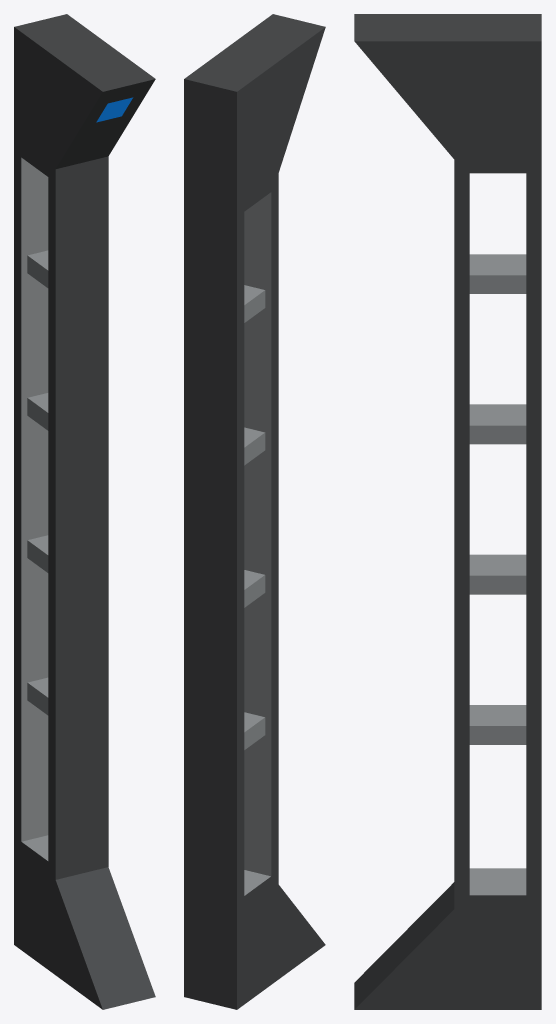
The model's file is Column_004.glb.
The picture shows the model from 3 angles, left to right: view 1: azimuth 30°, elevation 25°; view 2: azimuth 150°, elevation 25°; view 3: azimuth 270°, elevation 25°; orthographic projection. The views are drawn at different scales.
Parts seen in each view (by area): view 1: Column_004; view 2: Column_004; view 3: Column_004.
Part boxes in pixels (x1,y1,x2,y2): Column_004: (14, 14, 155, 1009); Column_004: (184, 14, 325, 1009); Column_004: (354, 14, 541, 1009).
Size of the model in its own units: 0.2321 by 3.85 by 0.6749.
2 materials, 2 textured.
